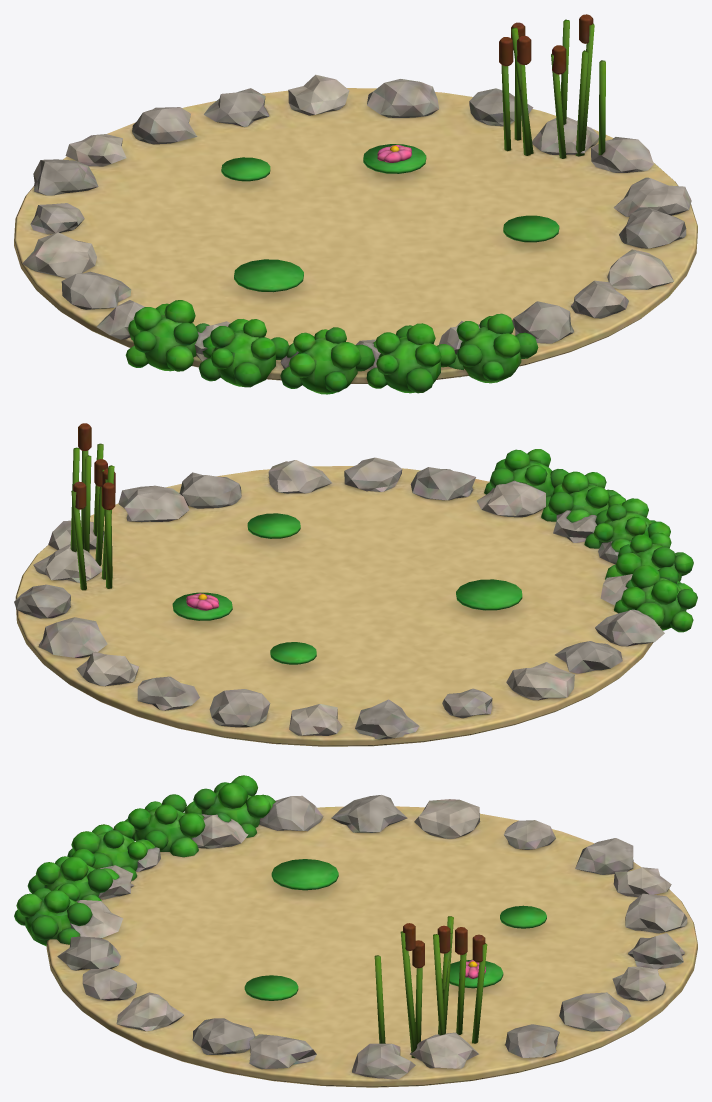
The model's file is pond.glb.
3 views of the same model, one above another, from view 1: azimuth 30°, elevation 25°; view 2: azimuth 150°, elevation 25°; view 3: azimuth 270°, elevation 25° (orthographic). The views are drawn at different scales.
Visible parts, largest first — view 1: pond; view 2: pond; view 3: pond.
Boxes of the visible parts, left/top/right/bottom form: pond: left=14, top=14, right=697, bottom=394; pond: left=14, top=423, right=697, bottom=746; pond: left=14, top=775, right=697, bottom=1087.
Size of the model in its own units: 1.95 by 0.495 by 2.04.
1 material, 1 textured.
